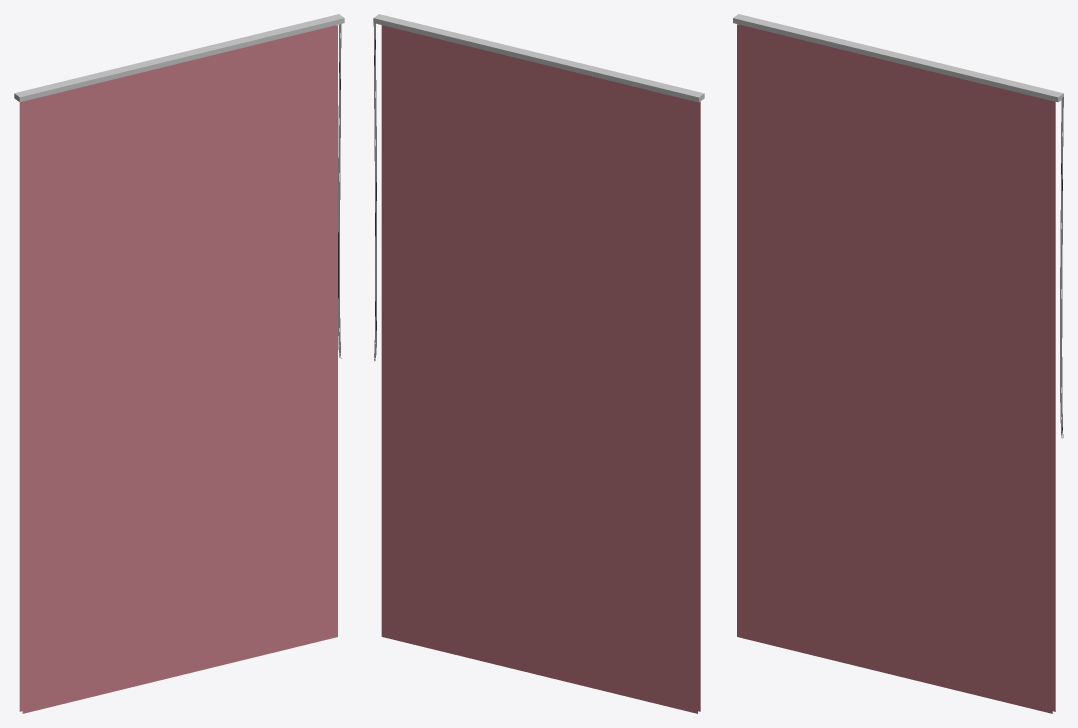
File: JapaneseCurtain1.fbx
3 renders of one model, left to right at view 1: azimuth 30°, elevation 25°; view 2: azimuth 150°, elevation 25°; view 3: azimuth 330°, elevation 25°, orthographic.
Visible parts, largest first — view 1: String_2.002; view 2: String_2.002; view 3: String_2.002.
Boxes of the visible parts, <box> form: String_2.002: <box>14,14,344,713</box>; String_2.002: <box>373,14,704,713</box>; String_2.002: <box>733,14,1063,713</box>.
Size of the model in its own units: 100 by 182 by 3.
